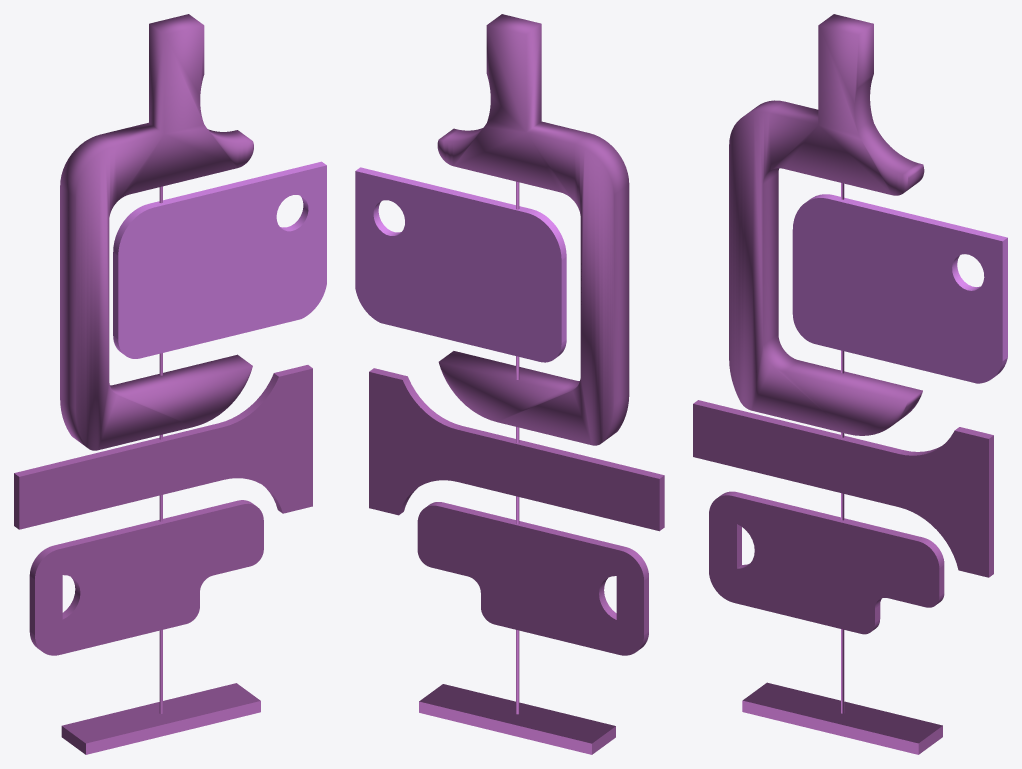
The model's file is colored_sculpture.glb.
3 views of the same model, side by side, from view 1: azimuth 30°, elevation 25°; view 2: azimuth 150°, elevation 25°; view 3: azimuth 330°, elevation 25° (orthographic).
Visible parts, largest first — view 1: group_1, group_2, group_3; view 2: group_1, group_2, group_3; view 3: group_1, group_2, group_3.
Part boxes in pixels (box(x1,y1,x2,y2)): group_1: box(14, 14, 312, 655); group_2: box(113, 161, 326, 358); group_3: box(61, 186, 260, 754); group_1: box(369, 14, 664, 655); group_2: box(355, 167, 566, 362); group_3: box(419, 181, 615, 754); group_1: box(693, 14, 993, 634); group_2: box(792, 194, 1007, 383); group_3: box(742, 183, 942, 754).
Size of the model in its own units: 33.29 by 72.61 by 4.83.
